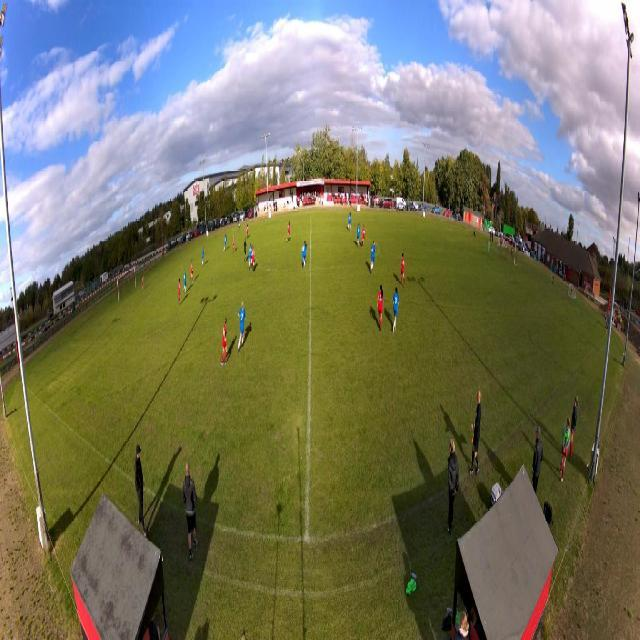player: (237, 300, 246, 354), (220, 317, 229, 366), (376, 284, 384, 334), (392, 286, 400, 334), (400, 251, 407, 289), (370, 238, 376, 275), (301, 239, 308, 269), (361, 223, 367, 250), (251, 244, 256, 273), (286, 219, 292, 243), (248, 242, 253, 270), (177, 278, 182, 306), (189, 258, 194, 285), (182, 268, 187, 294), (357, 222, 361, 249), (243, 237, 247, 264), (347, 211, 352, 232), (223, 234, 227, 253), (141, 274, 145, 291), (246, 223, 250, 239), (232, 233, 235, 254), (201, 247, 204, 267), (488, 239, 491, 257)
